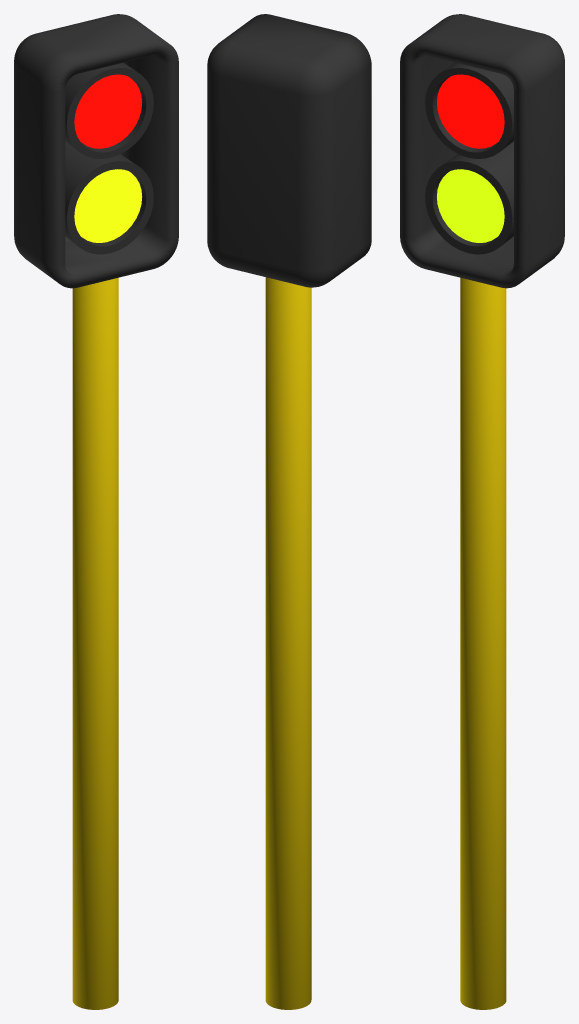
File: TrafficLights.fbx
3 views of the same model, side by side, from view 1: azimuth 30°, elevation 25°; view 2: azimuth 150°, elevation 25°; view 3: azimuth 330°, elevation 25° (orthographic).
Visible parts, largest first — view 1: Lights_Pole, Lights_Frame, Lights_Red, Lights_Green_Frame, Lights_Green, Lights_Red_Frame; view 2: Lights_Frame, Lights_Pole; view 3: Lights_Pole, Lights_Frame, Lights_Red, Lights_Green_Frame, Lights_Green, Lights_Red_Frame.
Part boxes in pixels (box(x1,y1,x2,y2)): Lights_Pole: box(72, 277, 118, 1009); Lights_Frame: box(14, 14, 178, 288); Lights_Red: box(74, 74, 142, 148); Lights_Green_Frame: box(65, 141, 153, 254); Lights_Green: box(74, 169, 142, 242); Lights_Red_Frame: box(65, 62, 153, 158); Lights_Frame: box(207, 14, 371, 287); Lights_Pole: box(265, 277, 311, 1009); Lights_Pole: box(460, 277, 506, 1009); Lights_Frame: box(400, 14, 564, 288); Lights_Red: box(437, 74, 504, 148); Lights_Green_Frame: box(425, 141, 513, 254); Lights_Green: box(437, 169, 504, 242); Lights_Red_Frame: box(425, 62, 513, 158).
Size of the model in its own units: 250 by 1821 by 169.
